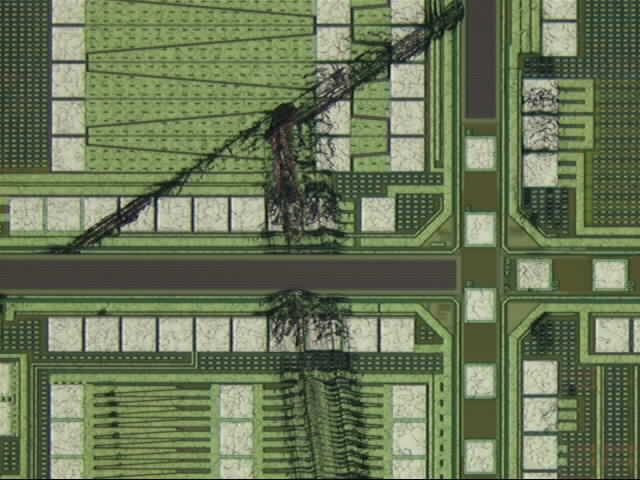SCRATCH: (38, 1, 564, 480)
